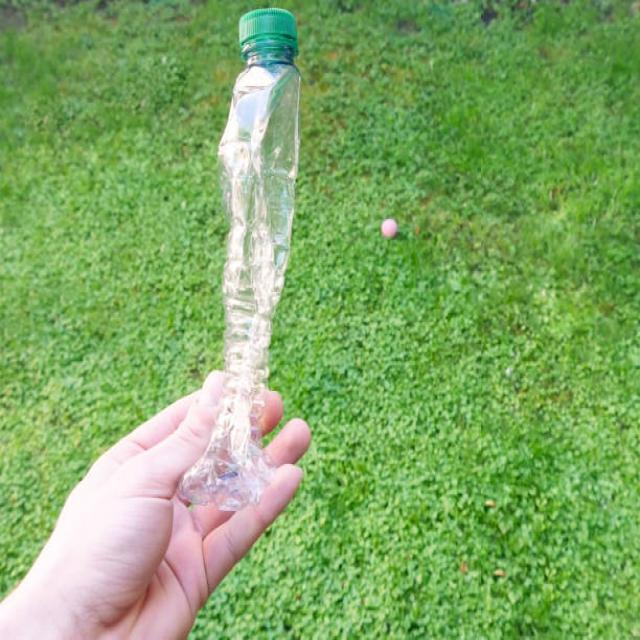plastic: (167, 6, 303, 507)
